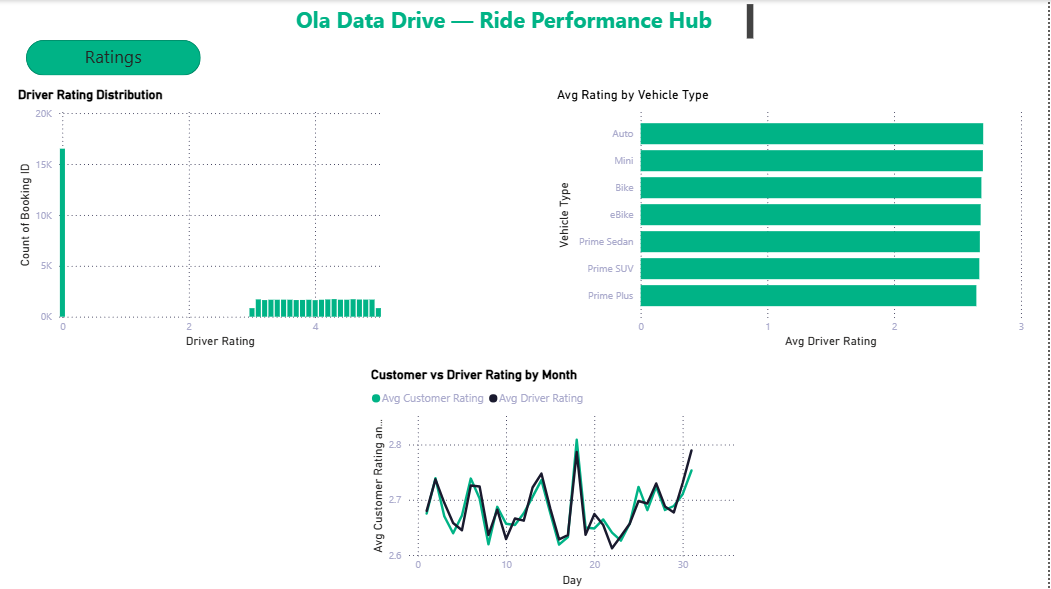

The dashboard page shown, as its layout file describes it:
{"tool":"powerbi","page":{"name":"Ratings","canvas":[1280,720],"ordinal":4},"visuals":[{"type":"columnChart","title":"Driver Rating Distribution","fields":{"Category":["ola_clean.Driver_Rating"],"Y":["CountNonNull(ola_clean.Booking ID)"]},"box":[17.7,106,453.7,323.3],"z":0},{"type":"barChart","title":"Avg Rating by Vehicle Type ","fields":{"Category":["ola_clean.Vehicle Type"],"Y":["ola_clean.Avg Driver Rating"]},"box":[675.2,106,580.1,323.3],"z":1000},{"type":"lineChart","title":"Customer vs Driver Rating by Month","fields":{"Category":["ola_clean.DateTime.Variation.Date Hierarchy.Day"],"Y":["ola_clean.Avg Customer Rating","ola_clean.Avg Driver Rating"]},"box":[448,448,454.1,272.8],"z":2000},{"type":"textbox","box":[356.6,0,568.4,64],"z":3000},{"type":"shape","box":[31.2,48.9,213.3,43.5],"z":4000},{"type":"textbox","box":[51.6,48.9,173.9,43.5],"z":5000}]}

Visuals, with their boxes in screenshot pixels (x1, y1, x2, y2), scaled from the page's 1280x720 canvas onto the 1051x589 screenshot:
"Driver Rating Distribution" columnChart: {"left": 15, "top": 87, "right": 387, "bottom": 351}
"Avg Rating by Vehicle Type " barChart: {"left": 554, "top": 87, "right": 1031, "bottom": 351}
"Customer vs Driver Rating by Month" lineChart: {"left": 368, "top": 366, "right": 741, "bottom": 588}
textbox: {"left": 293, "top": 0, "right": 760, "bottom": 52}
shape: {"left": 26, "top": 40, "right": 201, "bottom": 76}
textbox: {"left": 42, "top": 40, "right": 185, "bottom": 76}
